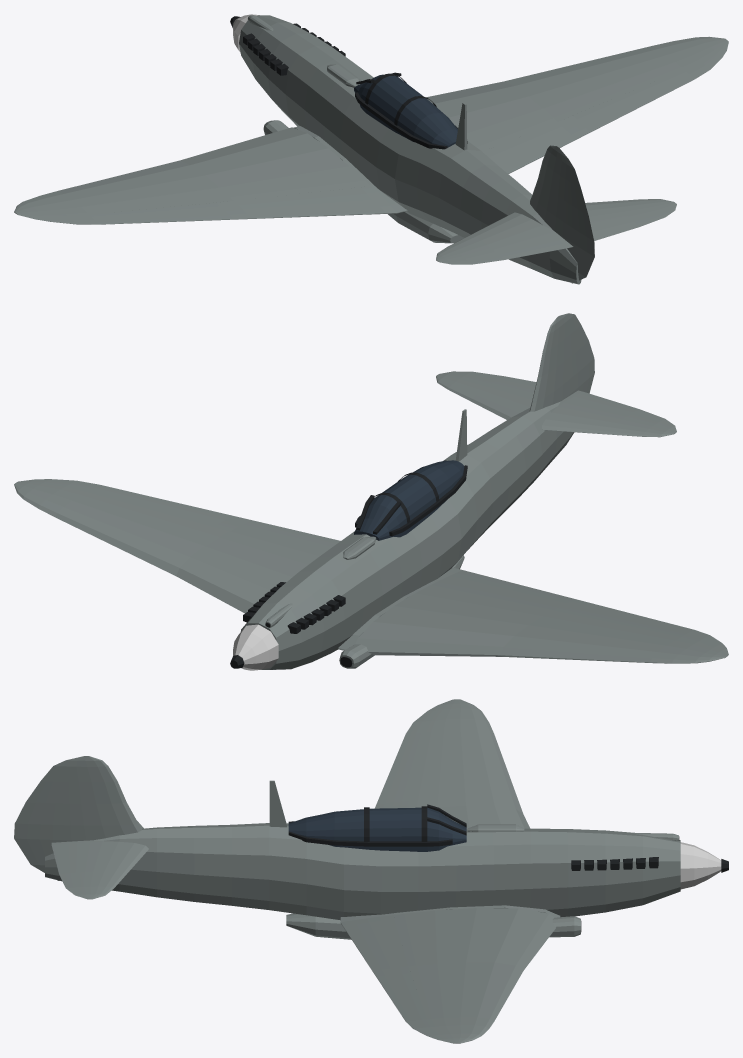
The model's file is yak9u.glb.
3 views of the same model, one above another, from view 1: azimuth 30°, elevation 25°; view 2: azimuth 150°, elevation 25°; view 3: azimuth 270°, elevation 25° (orthographic).
Visible parts, largest first — view 1: Fuselage, Wing L, Wing R, Cockpit Glass, Flap L, Aileron R, Flap R, Stabilizer L, Vertical Fin, Aileron L, Rudder, Elevator L (+5 smaller); view 2: Fuselage, Wing L, Wing R, Cockpit Glass, Stabilizer L, Vertical Fin, Stabilizer R, Flap L, Aileron R, Spinner, Flap R, Rudder (+6 smaller); view 3: Fuselage, Wing R, Wing L, Cockpit Glass, Vertical Fin, Rudder, Stabilizer R, Flap R, Aileron L, Canopy Frame, Aileron R, Elevator R (+5 smaller).
Boxes of the visible parts, box(x1,y1,x2,y2) form: Fuselage: box(239, 15, 581, 284); Wing L: box(14, 126, 407, 224); Wing R: box(426, 36, 728, 151); Cockpit Glass: box(354, 74, 457, 147); Flap L: box(224, 187, 386, 219); Aileron R: box(573, 61, 709, 132); Flap R: box(482, 118, 584, 173); Stabilizer L: box(436, 212, 554, 261); Vertical Fin: box(530, 145, 567, 239); Aileron L: box(68, 202, 233, 224); Rudder: box(559, 148, 594, 283); Elevator L: box(438, 231, 573, 264); Fuselage: box(240, 401, 574, 669); Wing L: box(338, 567, 728, 663); Wing R: box(14, 479, 323, 613); Cockpit Glass: box(354, 460, 464, 540); Stabilizer L: box(542, 400, 675, 437); Vertical Fin: box(529, 314, 571, 411); Stabilizer R: box(436, 374, 533, 419); Flap L: box(446, 572, 583, 609); Aileron R: box(68, 480, 233, 524); Spinner: box(233, 624, 278, 670); Flap R: box(224, 517, 340, 553); Rudder: box(560, 313, 594, 393); Fuselage: box(45, 823, 680, 920); Wing R: box(340, 905, 560, 1043); Wing L: box(375, 699, 530, 829); Cockpit Glass: box(288, 807, 466, 851); Vertical Fin: box(65, 756, 141, 841); Rudder: box(14, 756, 82, 880); Stabilizer R: box(82, 840, 148, 899); Flap R: box(343, 919, 409, 974); Aileron L: box(376, 720, 431, 804); Canopy Frame: box(288, 804, 466, 846); Aileron R: box(376, 972, 430, 1028); Elevator R: box(51, 840, 88, 899).
Bounding box in the file's own units: 9.74 × 2.41 × 8.56.
